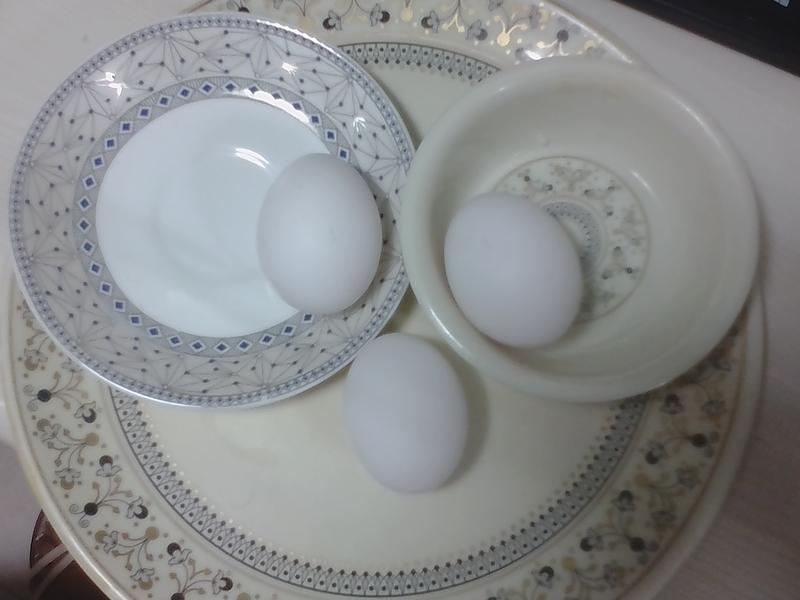egg: (350, 334, 468, 487)
